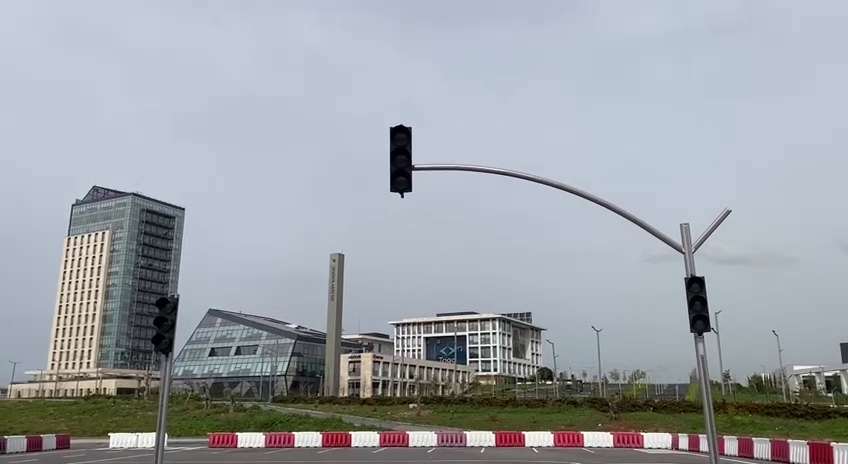trafficLight: (383, 119, 419, 201), (679, 272, 715, 339), (147, 291, 182, 357)
